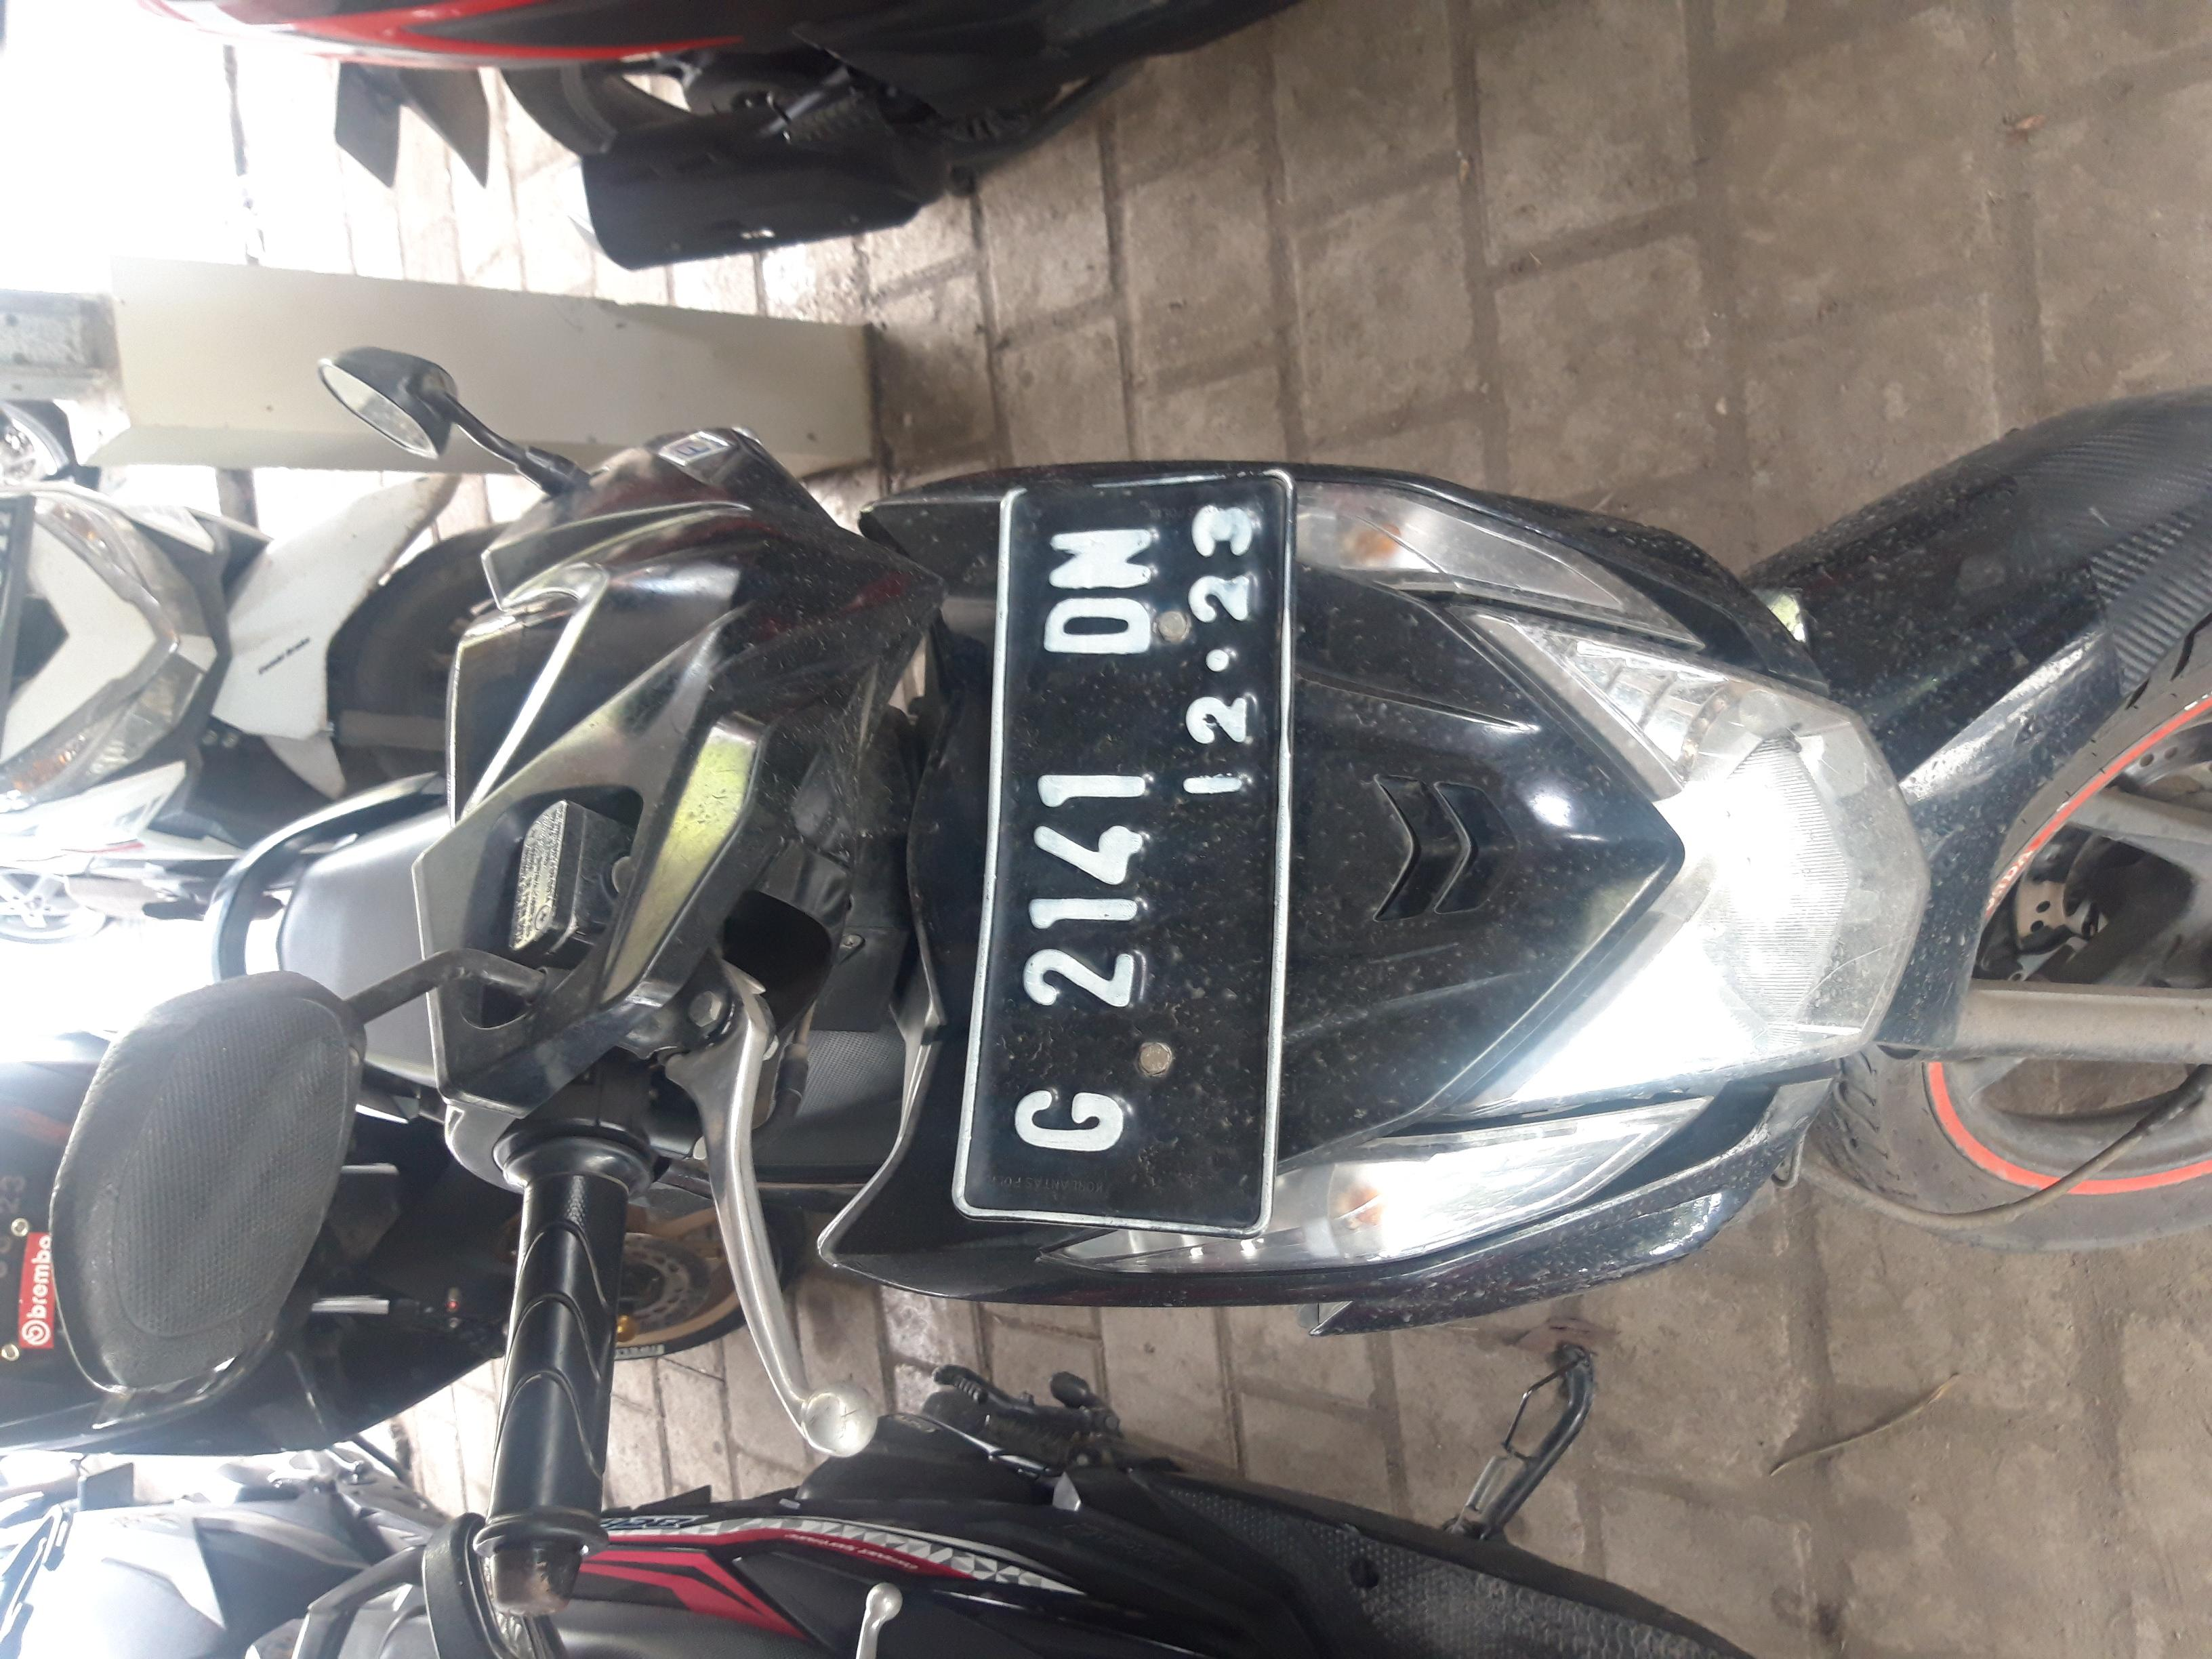plat: (565, 716, 1584, 969)
